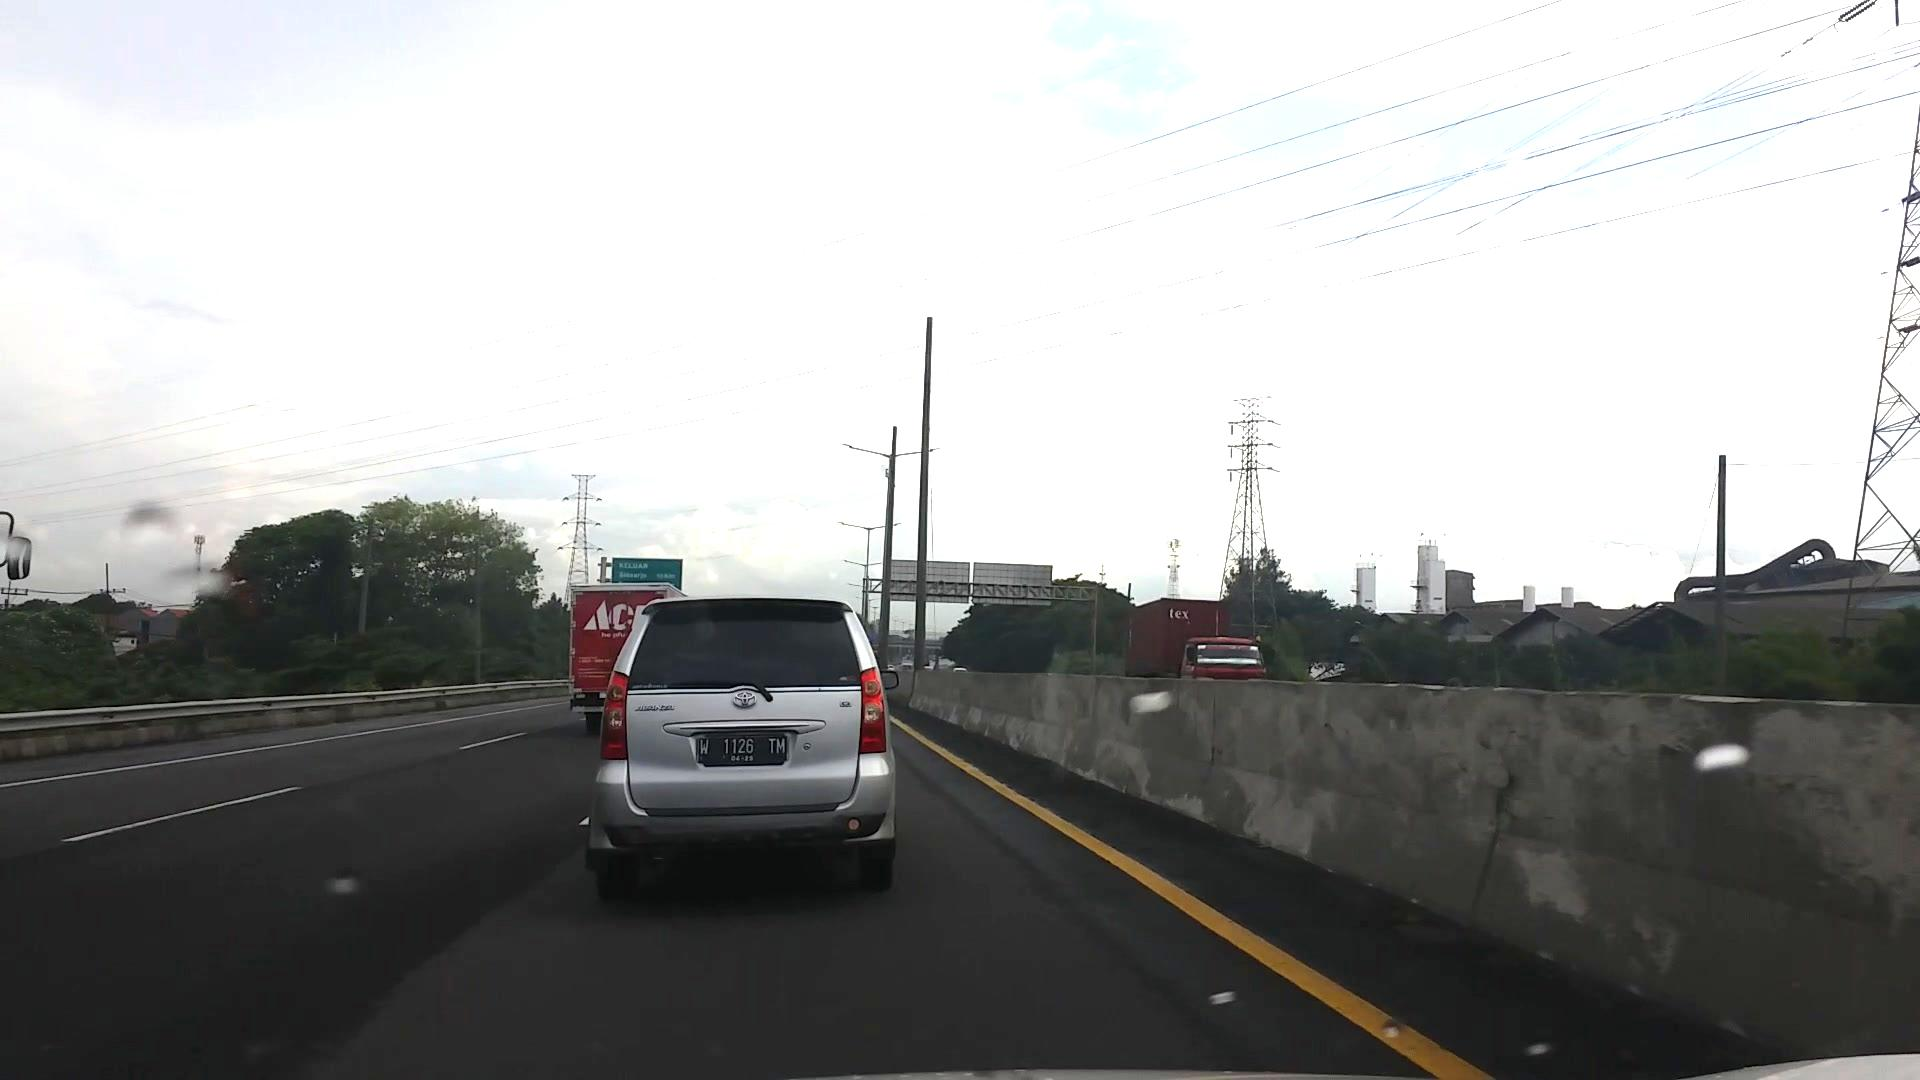plate_positive: (696, 735, 787, 766)
